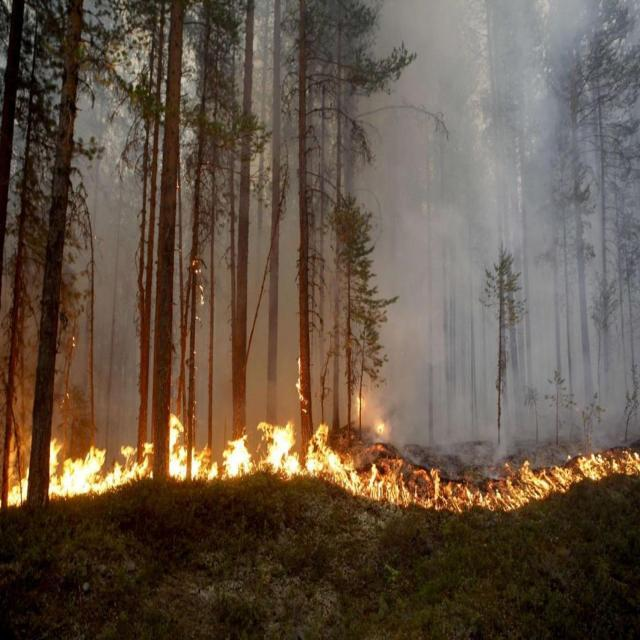Fire: (485, 460, 562, 506), (571, 437, 640, 478), (312, 420, 350, 488), (61, 446, 100, 498), (438, 462, 472, 514), (370, 462, 406, 507), (265, 420, 291, 478), (116, 441, 148, 488), (225, 434, 248, 484), (169, 410, 184, 476), (7, 473, 27, 499)
Smoke: (376, 22, 600, 404)
